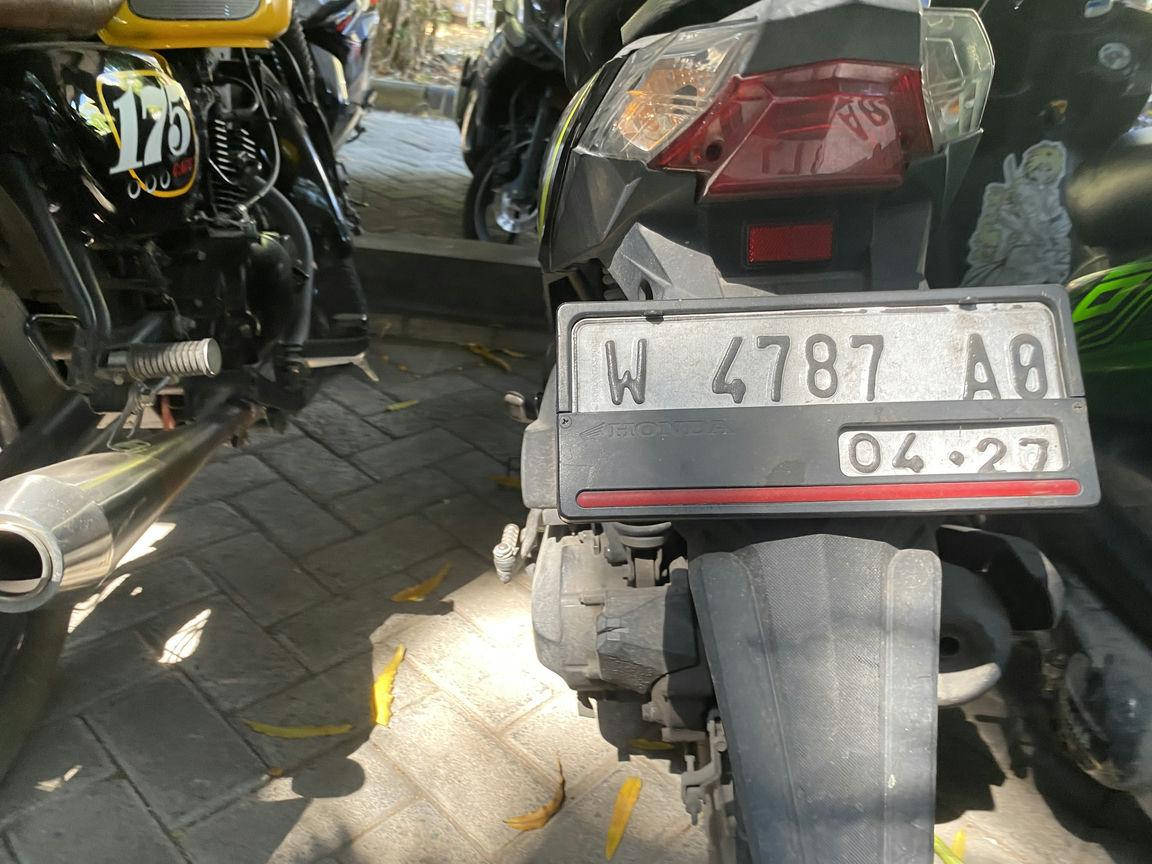plat: (558, 286, 1098, 520)
